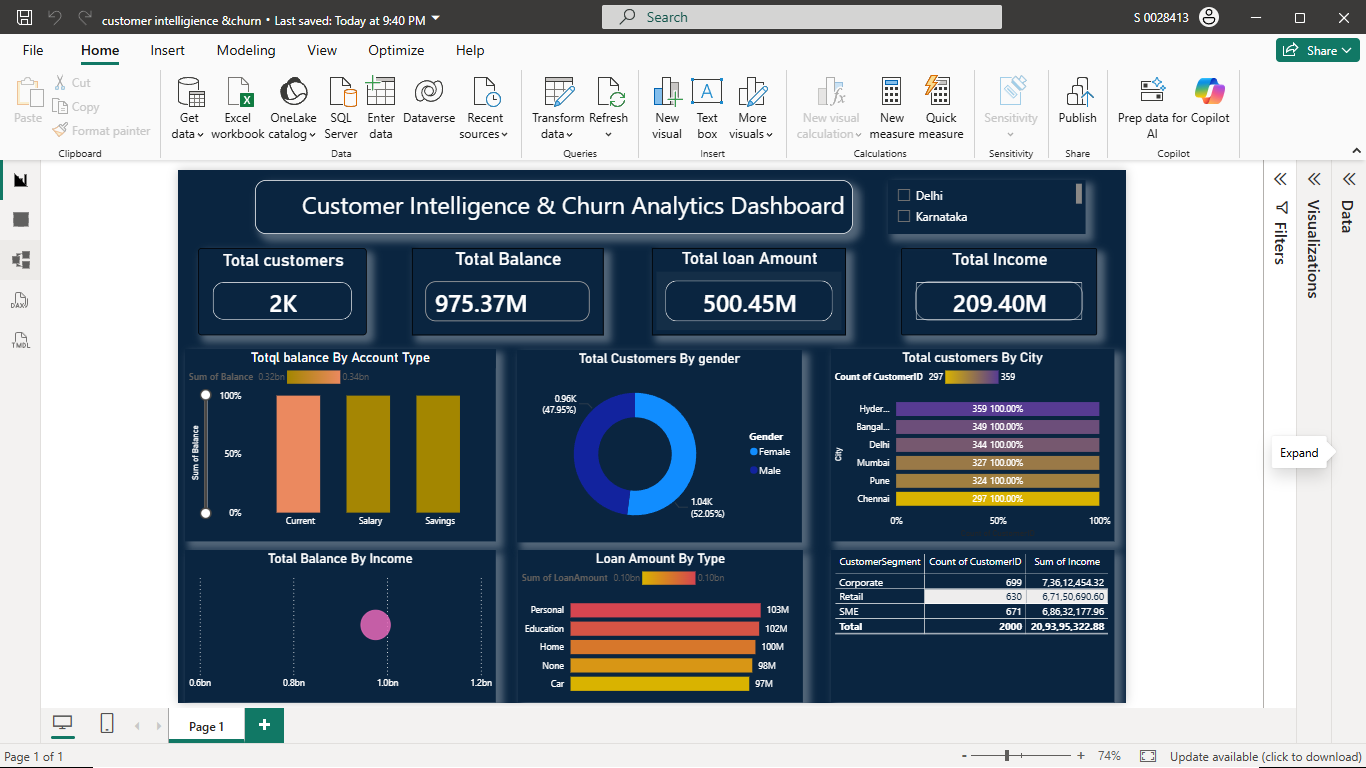

Layout of this report page (visuals, bound fields, positions):
{"tool":"powerbi","page":{"name":"Page 1","canvas":[1280,720],"ordinal":0},"visuals":[{"type":"textbox","box":[104.6,13.8,807.9,72.9],"z":0},{"type":"cardVisual","title":"Total Income","fields":{"Data":["Sum(bank_customer.Income)"]},"box":[977.6,105.8,265.4,117.6],"z":1000},{"type":"cardVisual","title":"Total loan Amount","fields":{"Data":["Sum(bank_customer.LoanAmount)"]},"box":[640,105.8,262,117.6],"z":2000},{"type":"cardVisual","title":"Total Balance","fields":{"Data":["Sum(bank_customer.Balance)"]},"box":[315.8,105.8,258.7,117.6],"z":3000},{"type":"cardVisual","title":"Total customers","fields":{"Data":["CountNonNull(bank_customer.CustomerID)"]},"box":[26.9,105.8,228.5,117.6],"z":4000},{"type":"hundredPercentStackedColumnChart","title":"Totql balance By Account Type","fields":{"Category":["bank_customer.AccountType"],"Y":["Sum(bank_customer.Balance)"]},"box":[9.6,242.2,419.8,260.1],"z":5000},{"type":"donutChart","title":"Total Customers By gender","fields":{"Category":["bank_customer.Gender"],"Y":["CountNonNull(bank_customer.CustomerID)"]},"box":[458.5,243.1,385,260.1],"z":6000},{"type":"hundredPercentStackedBarChart","title":"Total customers By City","fields":{"Y":["CountNonNull(bank_customer.CustomerID)"],"Category":["bank_customer.City"]},"box":[882.2,242.2,382.6,260.1],"z":7000},{"type":"scatterChart","title":"Total Balance By Income","fields":{"X":["Sum(bank_customer.Balance)"],"Size":["Sum(bank_customer.Income)"]},"box":[9.6,513.4,419.8,206.5],"z":8000},{"type":"slicer","fields":{"Values":["bank_customer.State"]},"box":[959.3,13.8,267,72.9],"z":9000},{"type":"barChart","title":"Loan Amount  By Type","fields":{"Y":["Sum(bank_customer.LoanAmount)"],"Category":["bank_customer.LoanType"]},"box":[459,514,385,206],"z":10000},{"type":"tableEx","title":"rr","fields":{"Values":["bank_customer.CustomerSegment","CountNonNull(bank_customer.CustomerID)","Sum(bank_customer.Income)"]},"box":[882.2,513.4,382.6,206.5],"z":11000}]}

Visuals, with their boxes on the page's 1280x720 design canvas (x1, y1, x2, y2). These are canvas units, not pixel positions in the 1366x768 screenshot, which may show the page scaled, cropped or inside an application window:
textbox: [x1=105, y1=14, x2=912, y2=87]
"Total Income" cardVisual: [x1=978, y1=106, x2=1243, y2=223]
"Total loan Amount" cardVisual: [x1=640, y1=106, x2=902, y2=223]
"Total Balance" cardVisual: [x1=316, y1=106, x2=574, y2=223]
"Total customers" cardVisual: [x1=27, y1=106, x2=255, y2=223]
"Totql balance By Account Type" hundredPercentStackedColumnChart: [x1=10, y1=242, x2=429, y2=502]
"Total Customers By gender" donutChart: [x1=458, y1=243, x2=844, y2=503]
"Total customers By City" hundredPercentStackedBarChart: [x1=882, y1=242, x2=1265, y2=502]
"Total Balance By Income" scatterChart: [x1=10, y1=513, x2=429, y2=720]
slicer - bank_customer.State: [x1=959, y1=14, x2=1226, y2=87]
"Loan Amount  By Type" barChart: [x1=459, y1=514, x2=844, y2=720]
"rr" tableEx: [x1=882, y1=513, x2=1265, y2=720]
